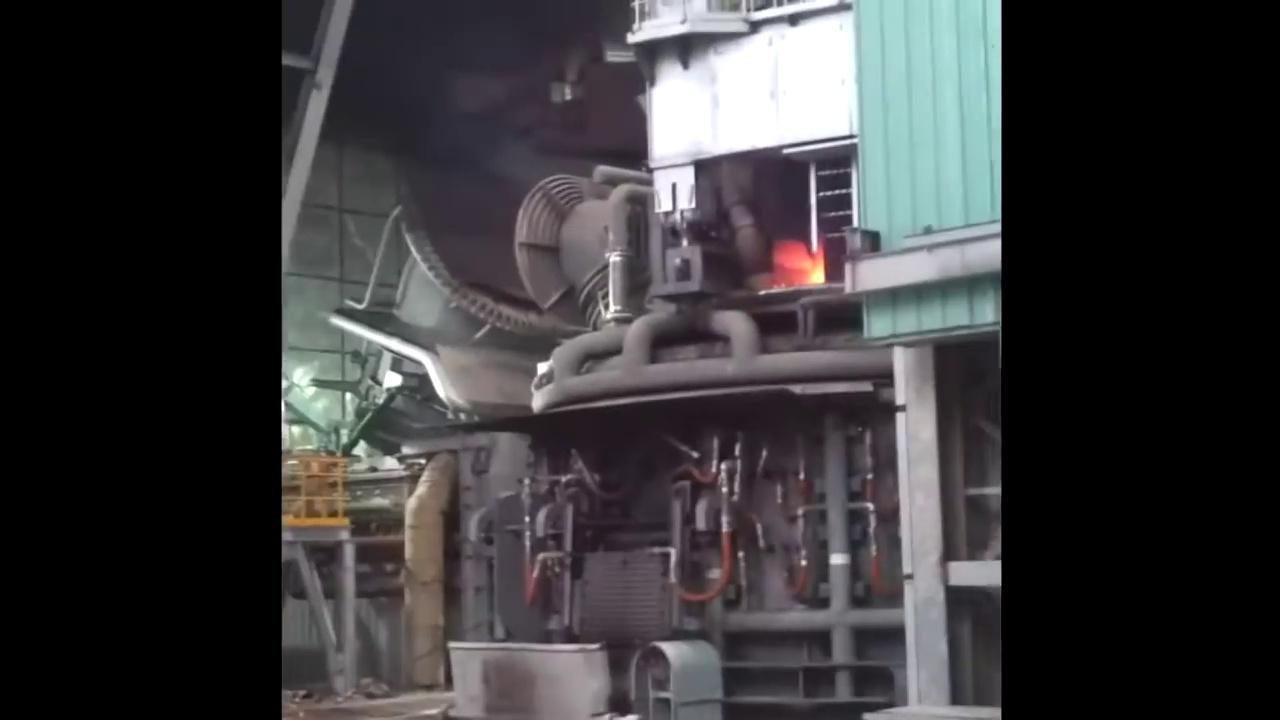fire: (716, 208, 902, 306)
